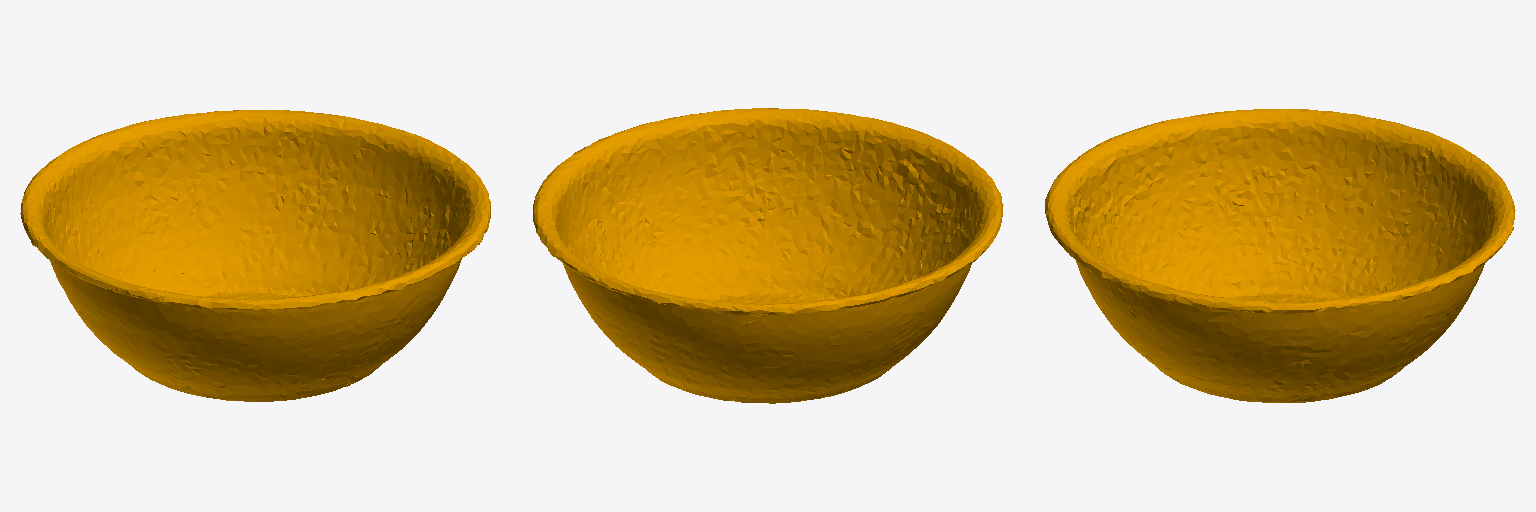
robot.urdf — model.urdf:
<?xml version="1.0" ?>
<robot name="model.urdf">
<link name="ycb">
<visual>
<origin rpy="0 0 0" xyz="0 0 0"/>
<geometry>
<mesh filename="meshes/textured_modified.obj" scale="1 1 1"/>
</geometry>
</visual>
<collision>
<origin rpy="0 0 0" xyz="0 0 0"/>
<geometry>
<mesh filename="meshes/textured_modified.obj" scale="1 1 1"/>
</geometry>
</collision>
<inertial>
<origin rpy="0 0 0" xyz="0 0 0"/>
       <mass value="0.147"/>
<inertia ixx="1" ixy="0" ixz="0" iyy="1" iyz="0" izz="1"/>
</inertial>
<contact>
<lateral_friction value="0.5"/>
<rolling_friction value="0.0"/>
<contact_cfm value="0.0"/>
<contact_erp value="1.0"/>
</contact>
</link>
</robot>

--- Render facts (derived) ---
The picture shows the robot from 3 angles, left to right: view 1: azimuth 30°, elevation 25°; view 2: azimuth 150°, elevation 25°; view 3: azimuth 270°, elevation 25°; orthographic projection.
Robot: model.urdf — 1 links, 0 joints (none); root link ycb; default pose: every joint at zero.
Links seen in each view (by area): view 1: ycb; view 2: ycb; view 3: ycb.
Boxes of the visible links, box(x1,y1,x2,y2) form: ycb: box(20, 110, 490, 401); ycb: box(533, 108, 1003, 403); ycb: box(1045, 109, 1515, 402).
Bounding box of the posed robot: 0.1615 × 0.1612 × 0.055 m (x, y, z).
Meshes: 1 distinct files referenced, 1 mesh visuals loaded (1 OBJ).